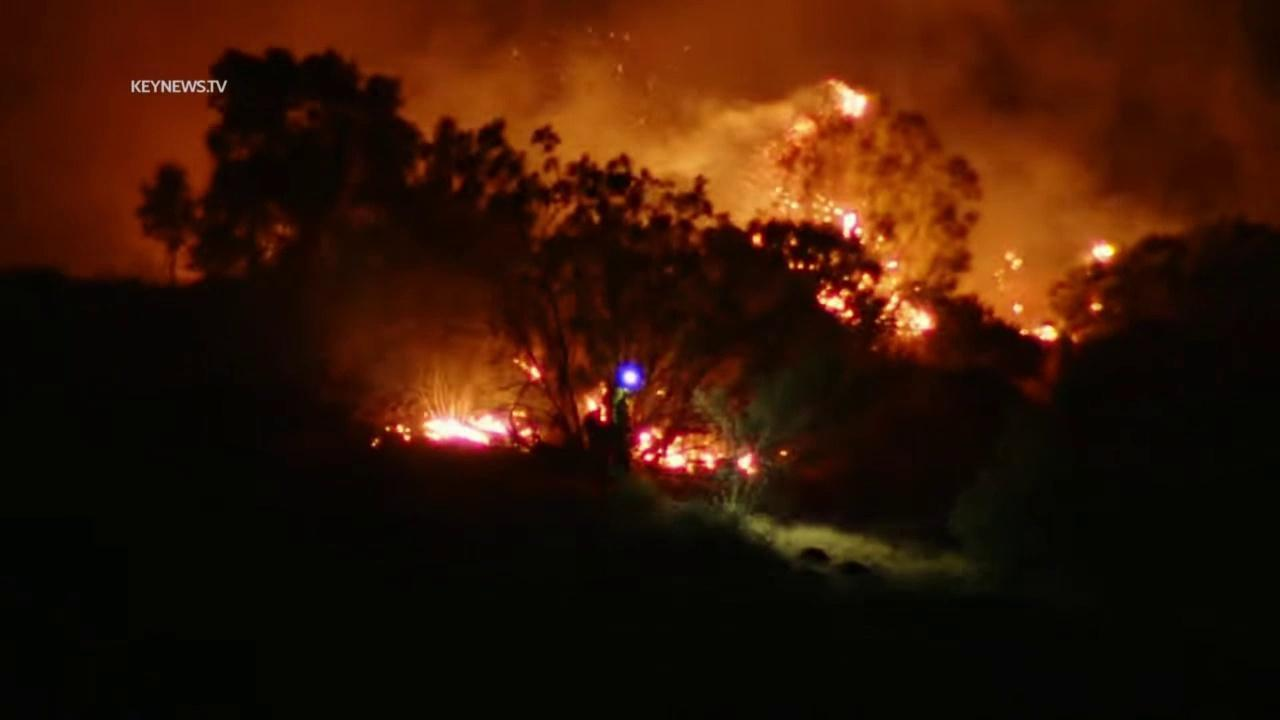fire: (771, 184, 866, 246), (636, 428, 755, 475), (421, 410, 537, 455), (812, 271, 873, 327), (876, 287, 939, 341), (826, 76, 869, 119), (581, 380, 610, 423), (511, 358, 546, 386), (1017, 324, 1060, 342), (1089, 237, 1117, 262), (384, 422, 412, 443), (1003, 249, 1024, 271), (748, 231, 764, 246), (883, 258, 901, 270), (1010, 302, 1026, 314), (1089, 300, 1105, 312), (787, 260, 805, 270), (369, 437, 381, 450), (779, 449, 788, 458)
smoke: (0, 0, 1280, 353)
